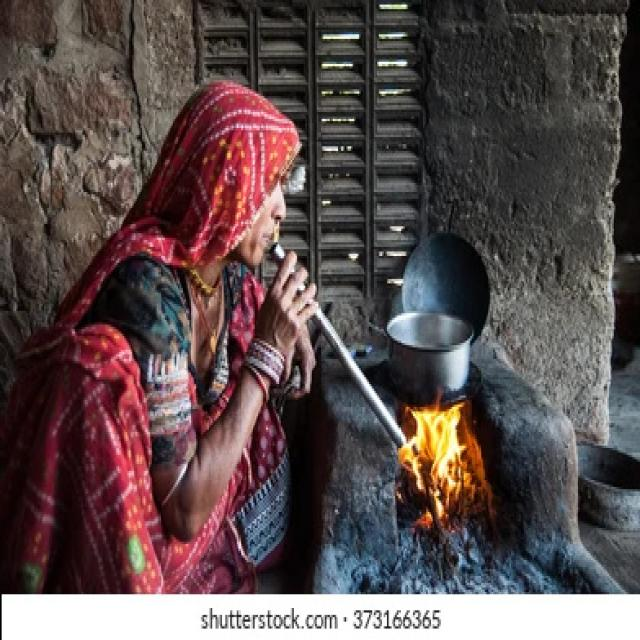fire: (396, 387, 496, 536)
